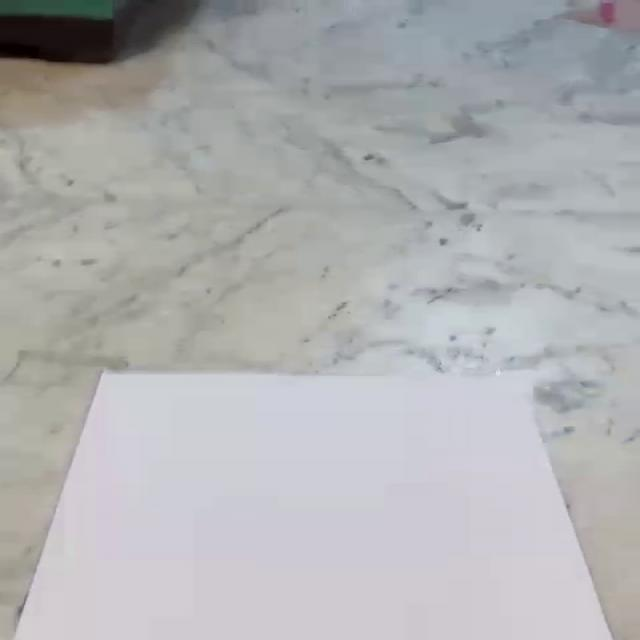road: (12, 371, 615, 640)
